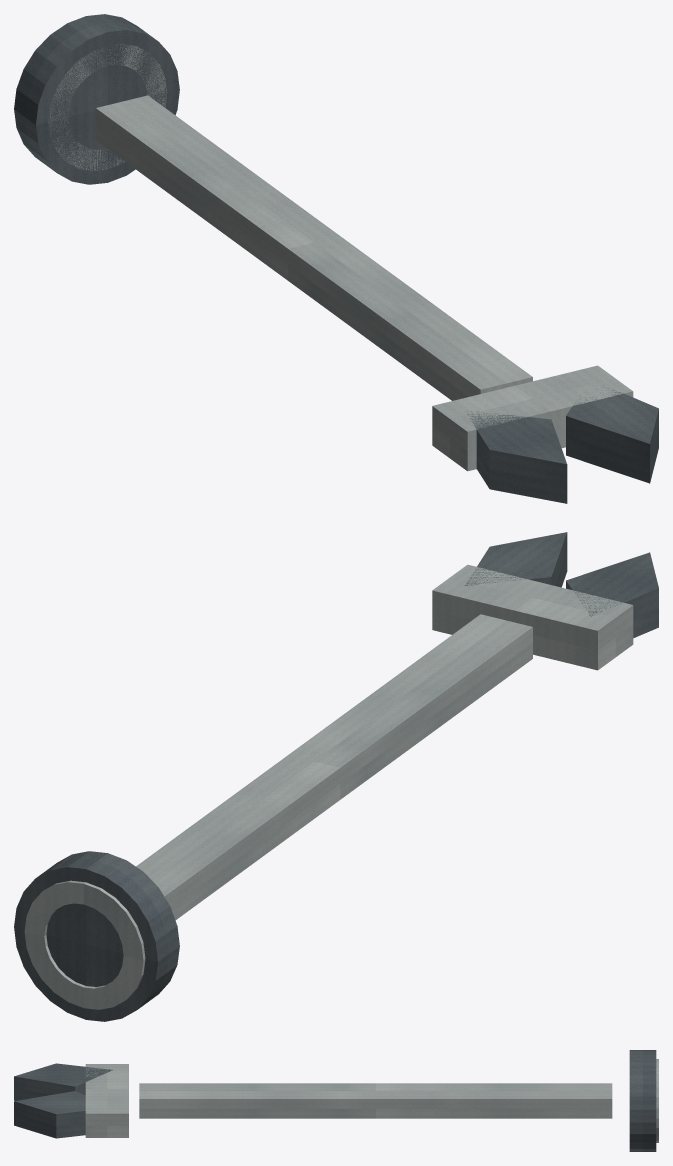
The model's file is PROJECT_Z_Pickup_OpenEndWrench.glb.
The picture shows the model from 3 angles, top to bottom: view 1: azimuth 30°, elevation 25°; view 2: azimuth 150°, elevation 25°; view 3: azimuth 270°, elevation 25°; orthographic projection. The views are drawn at different scales.
Parts seen in each view (by area): view 1: WRENCH_Neck, WRENCH_BoxRingOuter, WRENCH_OpenEndHeadBase, WRENCH_OpenJaw_-1, WRENCH_OpenJaw_+1, WRENCH_BoxEndOpenBore; view 2: WRENCH_Neck, WRENCH_BoxRingOuter, WRENCH_OpenEndHeadBase, WRENCH_BoxEndOpenBore, WRENCH_OpenJaw_-1, WRENCH_OpenJaw_+1; view 3: WRENCH_Neck, WRENCH_OpenEndHeadBase, WRENCH_BoxRingOuter, WRENCH_OpenJaw_+1, WRENCH_OpenJaw_-1, WRENCH_BoxEndOpenBore.
Part boxes in pixels (x1,y1,x2,y2): WRENCH_Neck: [95, 95, 532, 400]; WRENCH_BoxRingOuter: [14, 14, 179, 184]; WRENCH_OpenEndHeadBase: [432, 365, 633, 471]; WRENCH_OpenJaw_-1: [467, 411, 567, 503]; WRENCH_OpenJaw_+1: [566, 385, 658, 483]; WRENCH_BoxEndOpenBore: [48, 44, 166, 170]; WRENCH_Neck: [136, 614, 532, 920]; WRENCH_BoxRingOuter: [14, 851, 179, 1021]; WRENCH_OpenEndHeadBase: [432, 564, 633, 670]; WRENCH_BoxEndOpenBore: [24, 880, 145, 1009]; WRENCH_OpenJaw_-1: [566, 552, 658, 638]; WRENCH_OpenJaw_+1: [465, 532, 567, 587]; WRENCH_Neck: [139, 1083, 612, 1118]; WRENCH_OpenEndHeadBase: [85, 1064, 128, 1137]; WRENCH_BoxRingOuter: [629, 1050, 656, 1151]; WRENCH_OpenJaw_+1: [14, 1091, 85, 1138]; WRENCH_OpenJaw_-1: [14, 1063, 112, 1100]; WRENCH_BoxEndOpenBore: [656, 1059, 658, 1142].
Bounding box in the file's own units: 0.094 × 0.08 × 0.5045.
Materials: 2 (2 with a texture image).
